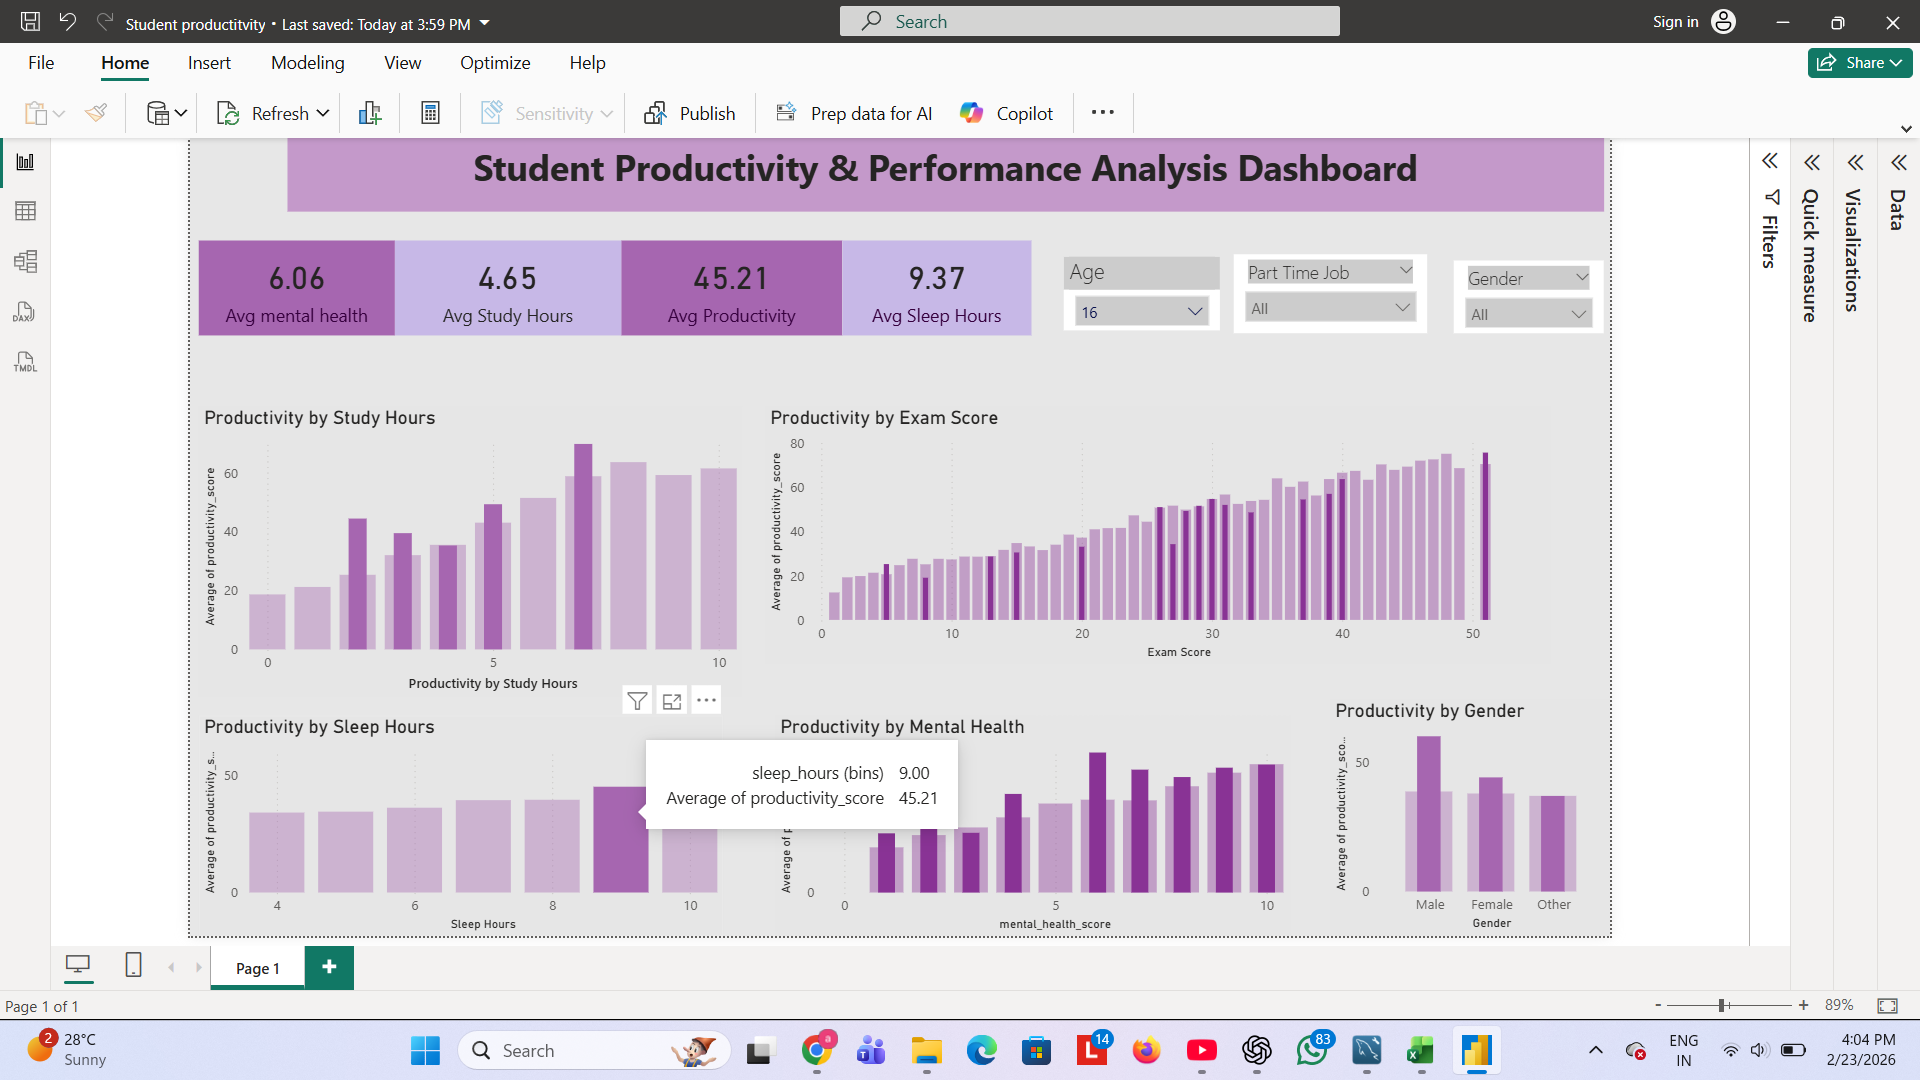

What the dashboard file says about the page in this screenshot:
{"tool":"powerbi","page":{"name":"Page 1","canvas":[1280,720],"ordinal":0},"visuals":[{"type":"card","fields":{"Values":["student_productivity_dataset.Avg mental health"]},"box":[7.9,92.4,177,85.7],"z":0},{"type":"card","fields":{"Values":["student_productivity_dataset.Avg Productivity"]},"box":[388.9,92.4,199.5,85.7],"z":1},{"type":"card","fields":{"Values":["student_productivity_dataset.Avg Sleep Hours"]},"box":[588.4,92.4,170.2,85.7],"z":2},{"type":"card","fields":{"Values":["student_productivity_dataset.Avg Study Hours"]},"box":[184.8,92.4,204,85.7],"z":3},{"type":"clusteredColumnChart","title":"Productivity by Study Hours","fields":{"Category":["student_productivity_dataset.study_hours (bins) 2"],"Y":["Avg(student_productivity_dataset.productivity_score)"]},"box":[7.5,242,490.3,262],"z":4},{"type":"clusteredColumnChart","title":"Productivity by Sleep Hours","fields":{"Category":["student_productivity_dataset.sleep_hours (bins)"],"Y":["Avg(student_productivity_dataset.productivity_score)"]},"box":[7.5,520.2,472.8,199.6],"z":5},{"type":"clusteredColumnChart","title":"Productivity by Mental Health","fields":{"Category":["student_productivity_dataset.mental_health_score"],"Y":["Avg(student_productivity_dataset.productivity_score)"]},"box":[527.7,520.2,465.3,199.6],"z":6},{"type":"clusteredColumnChart","title":"Productivity by Gender","fields":{"Y":["Avg(student_productivity_dataset.productivity_score)"],"Category":["student_productivity_dataset.gender"]},"box":[1028,506.5,252,213.3],"z":7},{"type":"clusteredColumnChart","title":"Productivity by Exam Score","fields":{"Y":["Avg(student_productivity_dataset.productivity_score)"],"Category":["student_productivity_dataset.exam_score (bins)"]},"box":[518.5,242.3,709,232.2],"z":8},{"type":"slicer","title":"Age","fields":{"Values":["student_productivity_dataset.age"]},"box":[787.9,107.1,140.9,66.5],"z":9},{"type":"slicer","fields":{"Values":["student_productivity_dataset.part_time_job"]},"box":[941.1,104.8,174.7,71],"z":10},{"type":"slicer","fields":{"Values":["student_productivity_dataset.gender"]},"box":[1139.5,110.5,135.3,65.4],"z":11},{"type":"textbox","box":[87.9,0,1186.9,66.5],"z":13}]}

Visuals, with their boxes on the page's 1280x720 design canvas (x1, y1, x2, y2). These are canvas units, not pixel positions in the 1920x1080 screenshot, which may show the page scaled, cropped or inside an application window:
card - student_productivity_dataset.Avg mental health: 8 92 185 178
card - student_productivity_dataset.Avg Productivity: 389 92 588 178
card - student_productivity_dataset.Avg Sleep Hours: 588 92 759 178
card - student_productivity_dataset.Avg Study Hours: 185 92 389 178
"Productivity by Study Hours" clusteredColumnChart: 8 242 498 504
"Productivity by Sleep Hours" clusteredColumnChart: 8 520 480 720
"Productivity by Mental Health" clusteredColumnChart: 528 520 993 720
"Productivity by Gender" clusteredColumnChart: 1028 506 1280 720
"Productivity by Exam Score" clusteredColumnChart: 518 242 1228 474
"Age" slicer: 788 107 929 174
slicer - student_productivity_dataset.part_time_job: 941 105 1116 176
slicer - student_productivity_dataset.gender: 1140 110 1275 176
textbox: 88 0 1275 66
